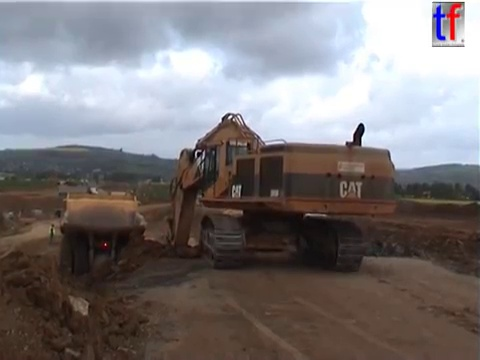excavator: (146, 110, 398, 285)
truck: (54, 188, 150, 277)
worker: (57, 183, 100, 198), (59, 179, 91, 192), (46, 221, 57, 247)
